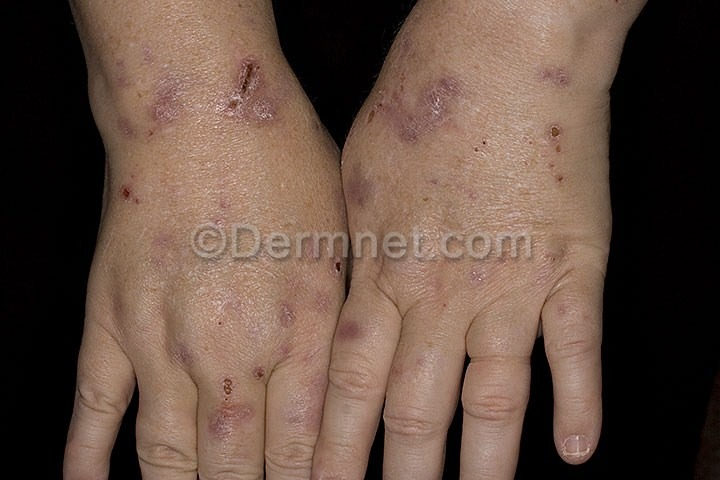Melasma: (176, 262, 372, 469), (352, 17, 720, 61), (199, 1, 285, 51)
